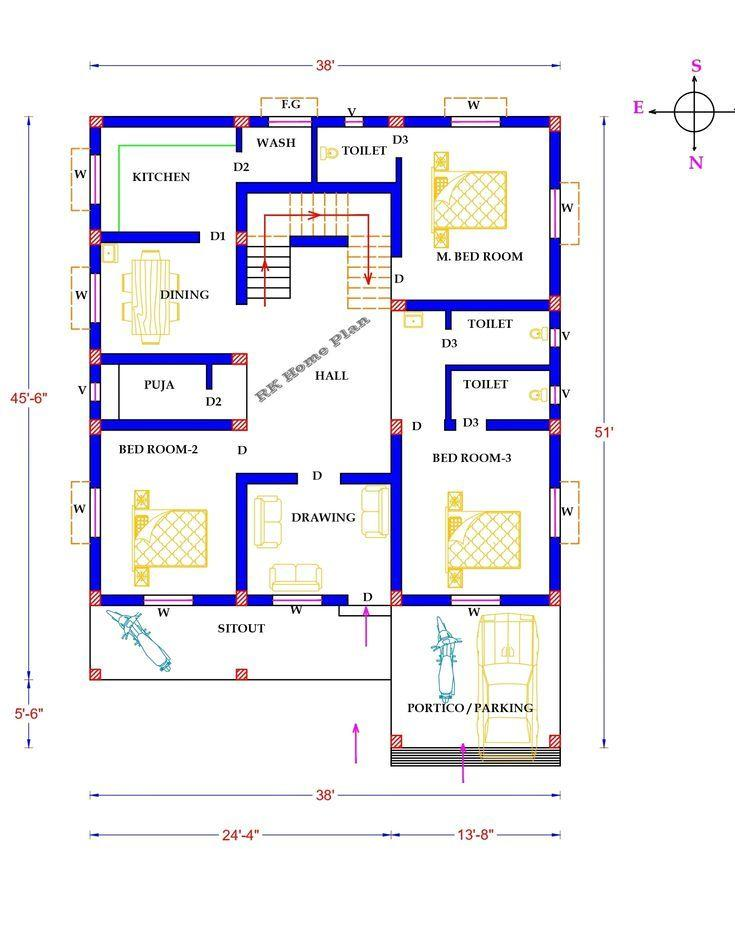Blueprint: (79, 107, 568, 756)
wall: (235, 181, 397, 195), (390, 434, 402, 590), (405, 300, 550, 312), (101, 352, 234, 365), (101, 418, 233, 431), (103, 116, 235, 128), (101, 230, 202, 245), (235, 472, 247, 590), (389, 157, 402, 257), (485, 418, 549, 432), (289, 235, 350, 248), (235, 245, 248, 305), (548, 132, 561, 189), (549, 238, 562, 295), (445, 364, 550, 371), (89, 435, 102, 490), (340, 472, 392, 485), (247, 472, 299, 485), (445, 370, 456, 431), (549, 434, 561, 489), (90, 537, 102, 591), (549, 537, 561, 590), (192, 593, 236, 607), (500, 116, 550, 128), (500, 594, 550, 606), (402, 594, 452, 606), (403, 116, 452, 128), (235, 193, 249, 232), (101, 594, 144, 606), (549, 347, 561, 386), (88, 322, 103, 349), (88, 244, 101, 274), (311, 127, 318, 182), (311, 116, 345, 127), (89, 127, 102, 154), (321, 593, 349, 605), (89, 203, 101, 230), (363, 116, 389, 128), (247, 594, 273, 605), (88, 364, 102, 384), (249, 115, 269, 128), (548, 311, 562, 328), (89, 401, 102, 419), (235, 128, 244, 154), (206, 364, 213, 391), (444, 311, 452, 331)
